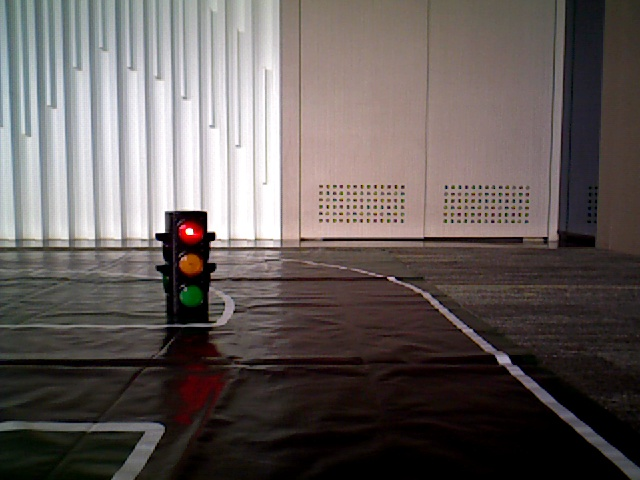red: (168, 213, 206, 310)
